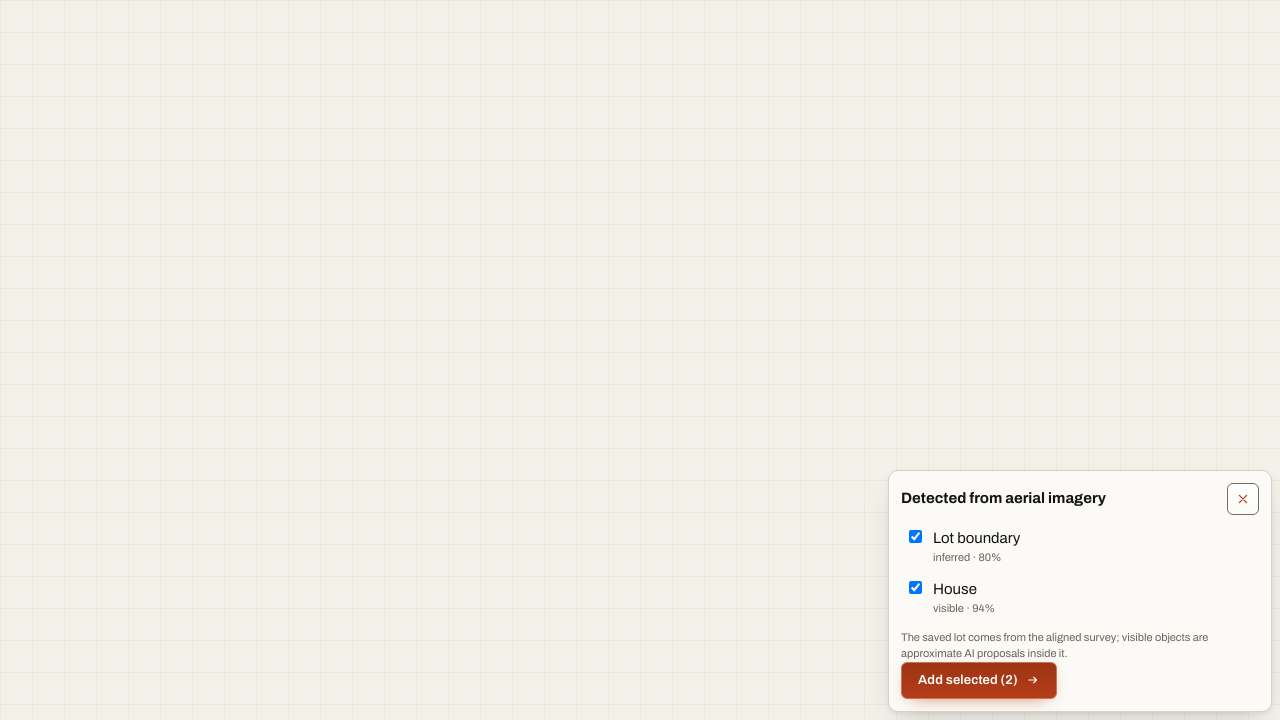
Test: AerialTracingPanel › keeps the review open and updates its count when an object is unchecked
Click the checkbox labelled "House visible · 94%".
click(916, 587)  # box [909,580,922,594]
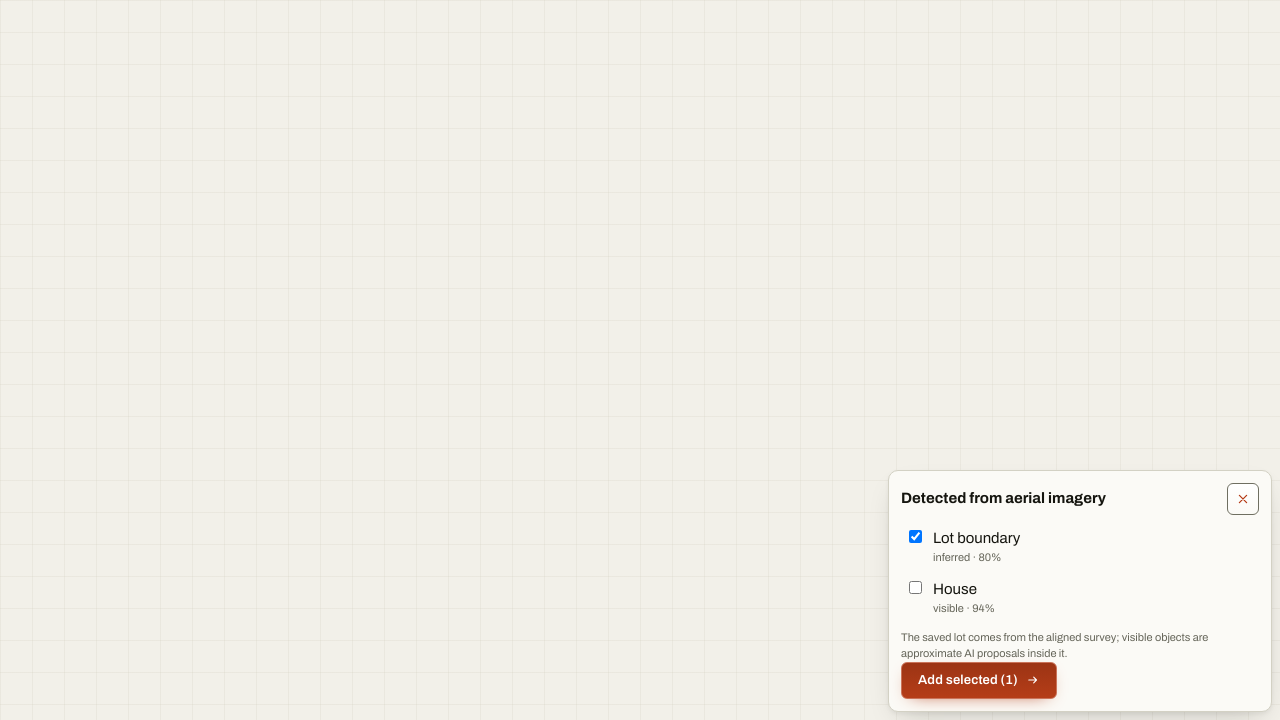
Expected: the checkbox labelled "House visible · 94%" is not checked, [909,580,922,594]
Expected: the button "Add selected (1)" is shown, [901,662,1057,699]
